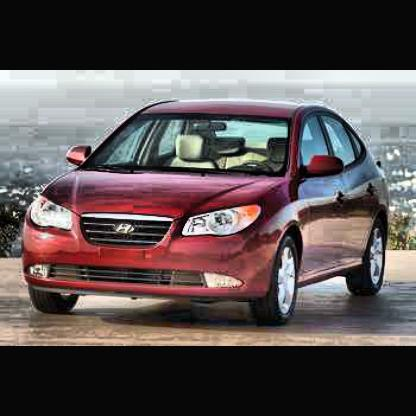Hyundai Elantra Sedan 2007: (21, 104, 393, 329)
